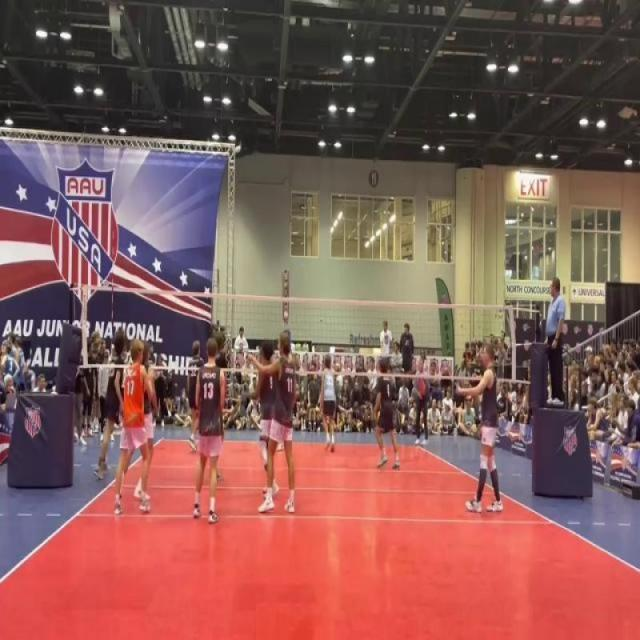volleyball: (282, 310, 290, 323)
